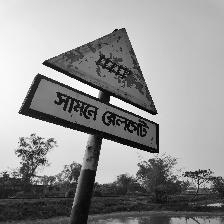Rail-crossing: (19, 28, 161, 154)
